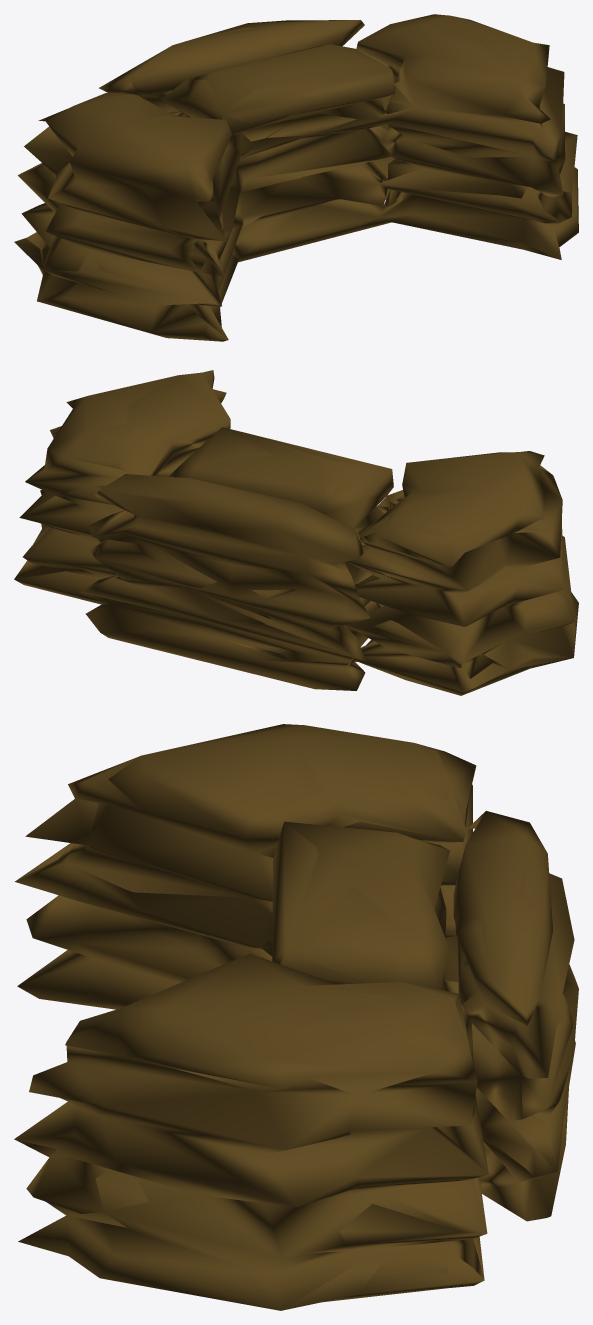
Rendered from gen3d-sandbag-wall-lod1.glb.
The picture shows the model from 3 angles, top to bottom: view 1: azimuth 30°, elevation 25°; view 2: azimuth 150°, elevation 25°; view 3: azimuth 270°, elevation 25°; orthographic projection. The views are drawn at different scales.
Visible parts, largest first — view 1: part_0; view 2: part_0; view 3: part_0.
Part boxes in pixels (<box>): part_0: <box>14,14,578,341</box>; part_0: <box>14,370,578,695</box>; part_0: <box>14,724,578,1310</box>.
Size of the model in its own units: 3.36 by 0.9918 by 1.96.
